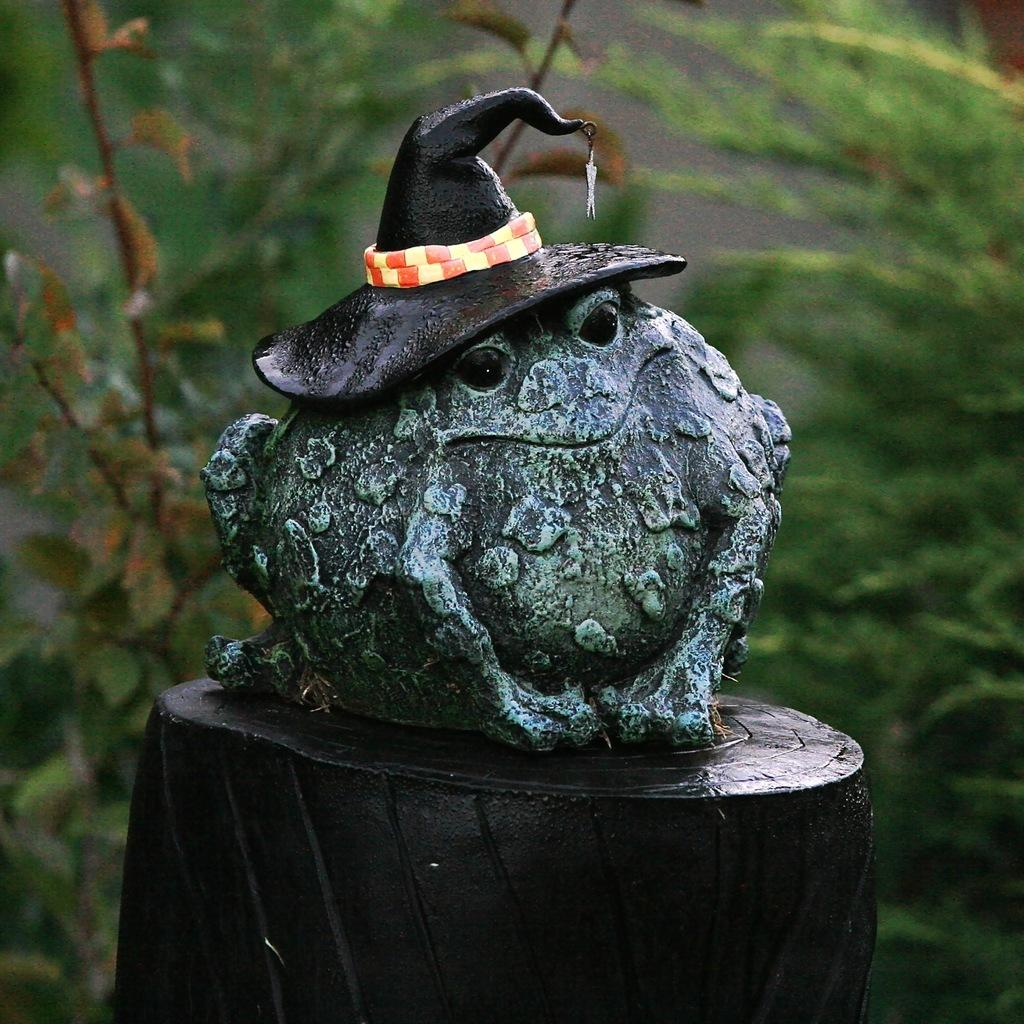Hat: (249, 89, 686, 405)
